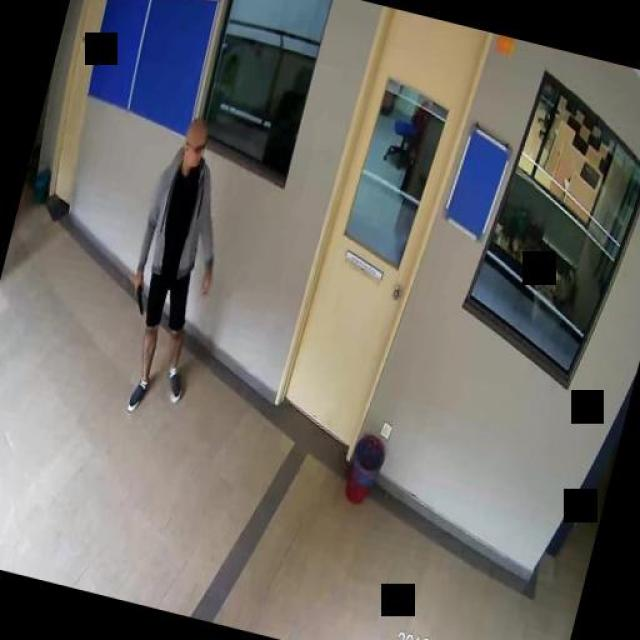gun: (128, 276, 148, 312)
